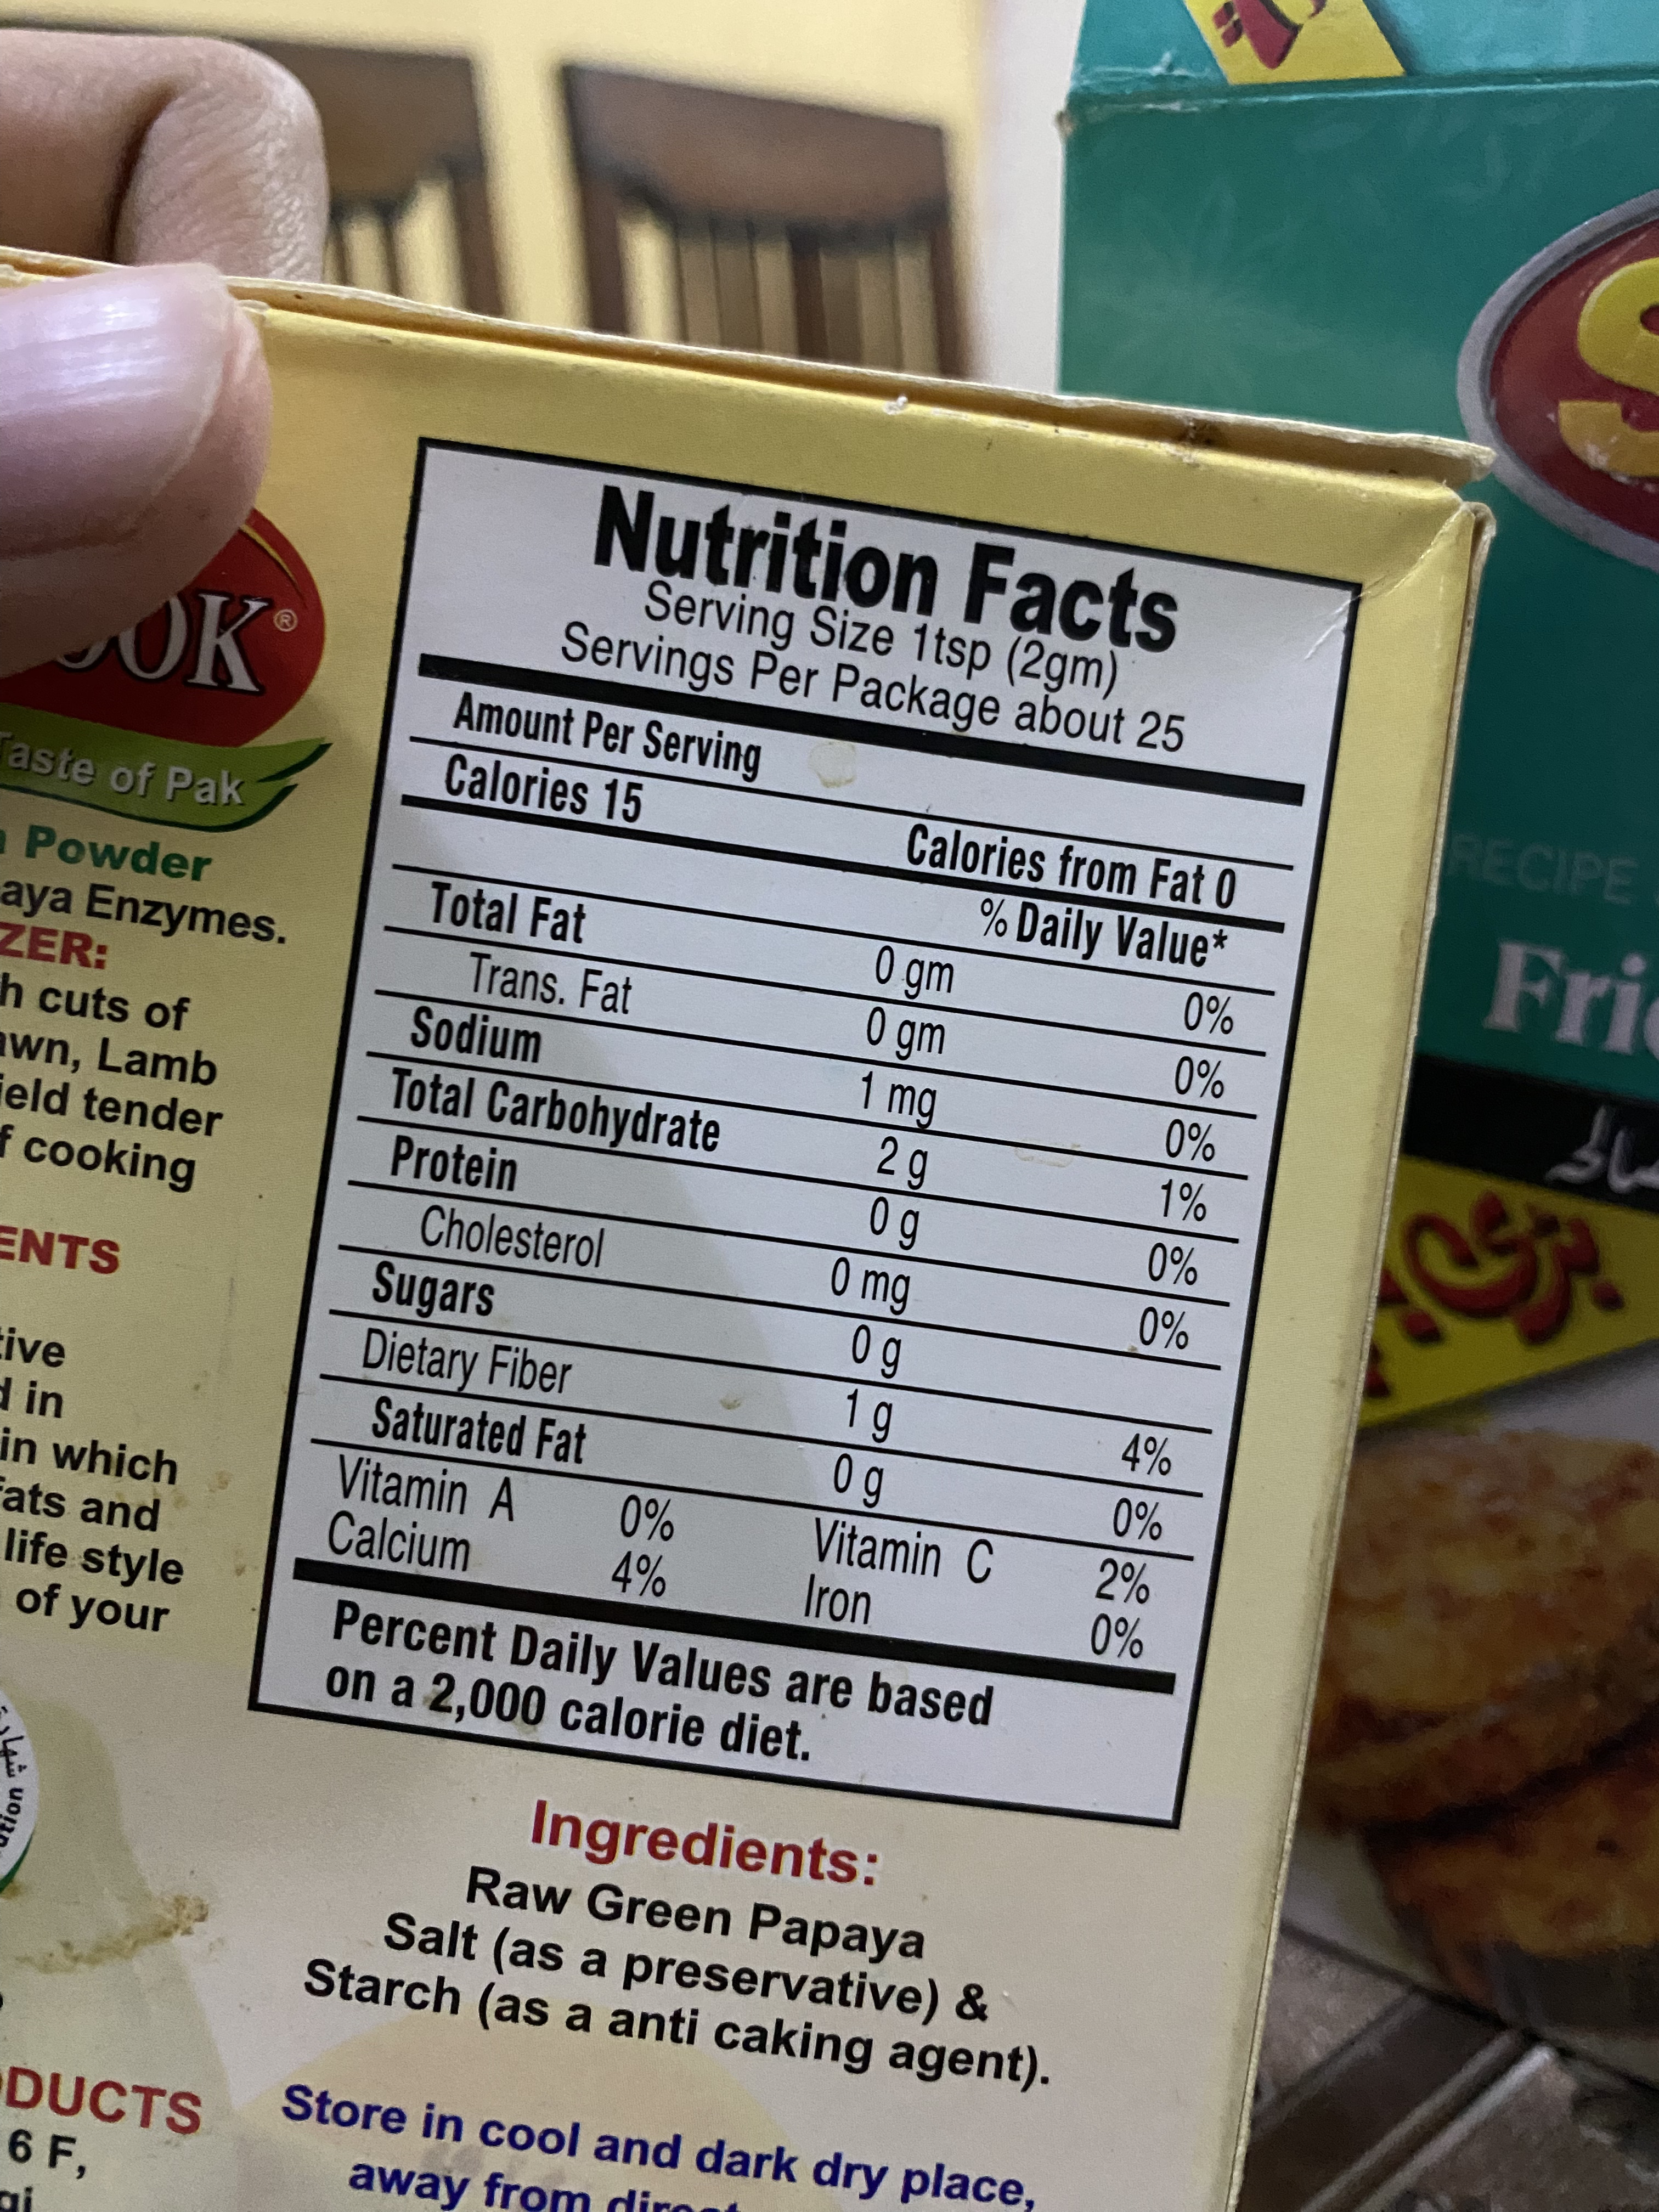table: (232, 427, 1377, 1829)
